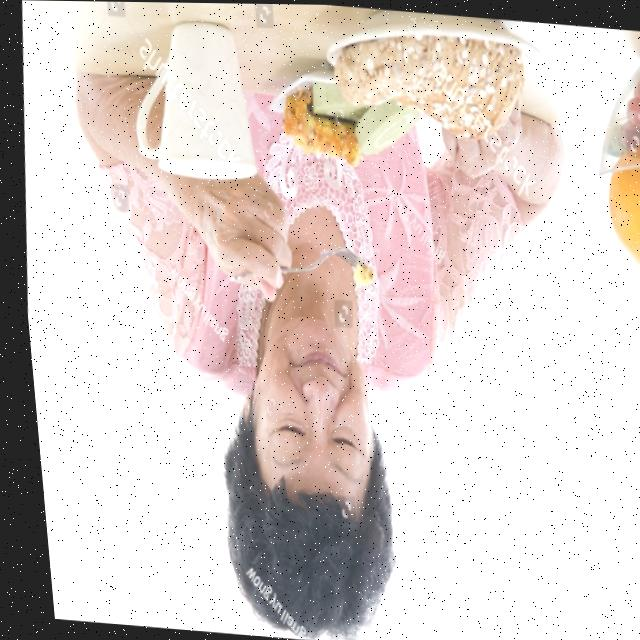eating-person: (20, 0, 609, 640)
